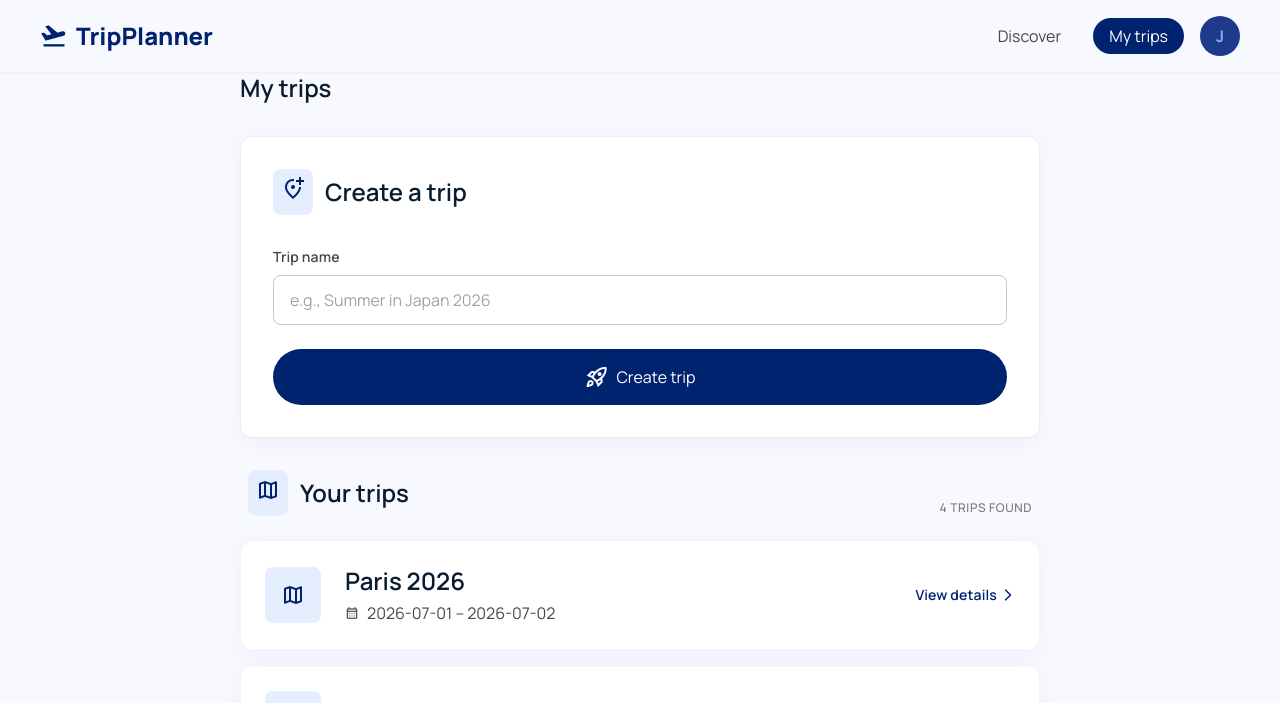
Test case: TripsPage › create trip (F3-US1) › shows a validation error when the name is empty
The width and height of the screenshot is (1280, 703).
Check: the heading "My trips" is shown, box [240,71,331,104]
Click the button "Create trip": click(640, 377) [273,349,1007,405]
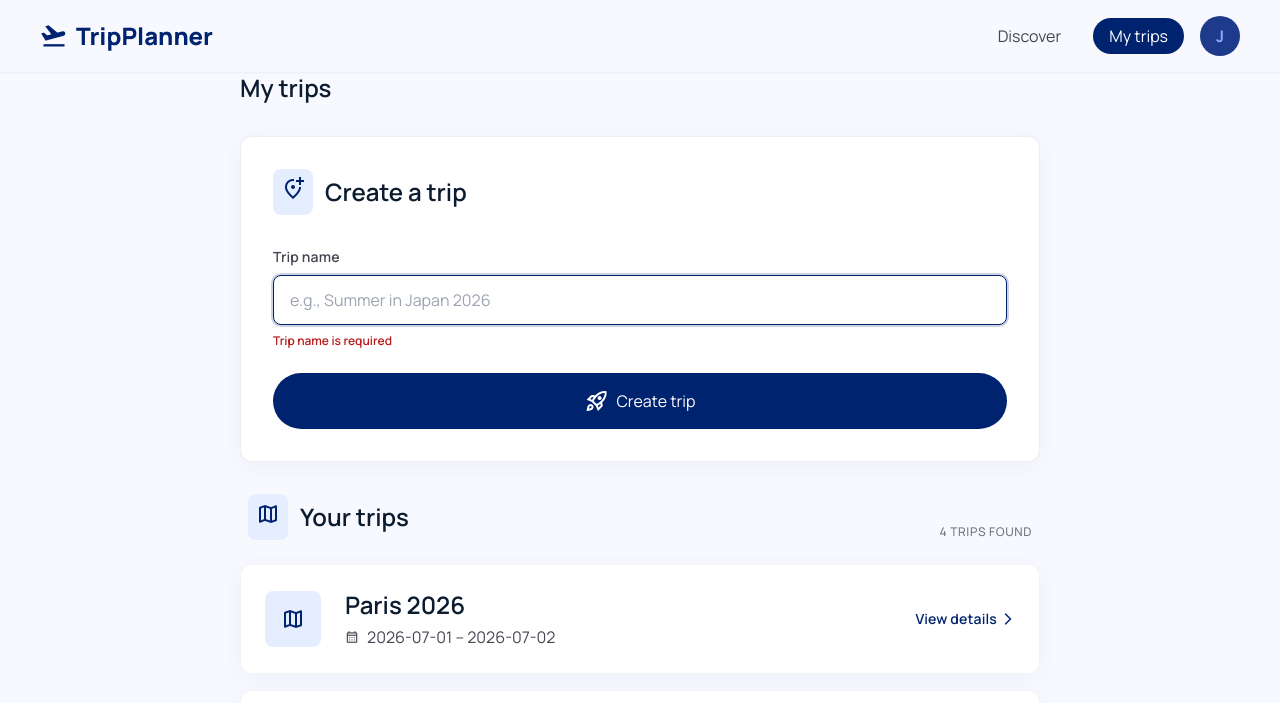
Check: the text "Trip name is required" is shown, box [273,332,392,349]
